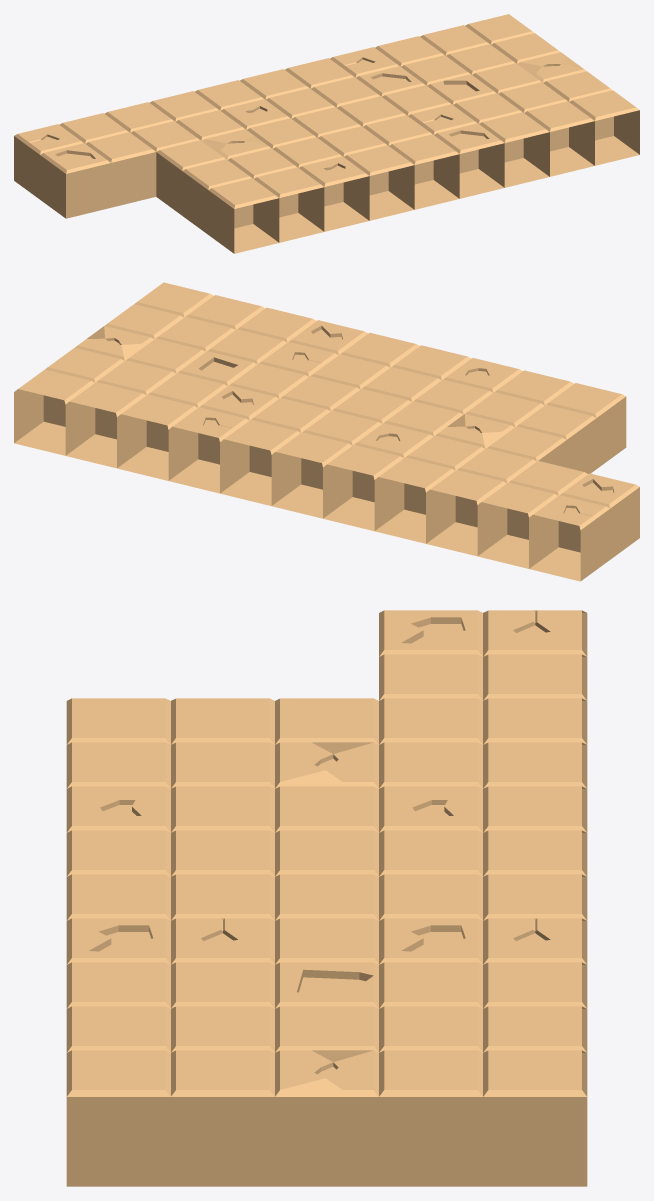
File: 11x5 Floor.fbx
3 views of the same model, one above another, from view 1: azimuth 30°, elevation 25°; view 2: azimuth 150°, elevation 25°; view 3: azimuth 270°, elevation 25° (orthographic). The views are drawn at different scales.
Visible parts, largest first — view 1: Cube; view 2: Cube; view 3: Cube.
Boxes of the visible parts, x1,y1,x2,y2 form: Cube: [14, 14, 639, 253]; Cube: [14, 282, 639, 581]; Cube: [66, 610, 587, 1186].
Size of the model in its own units: 1100 by 100 by 500.
